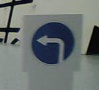left: (31, 22, 76, 64)
